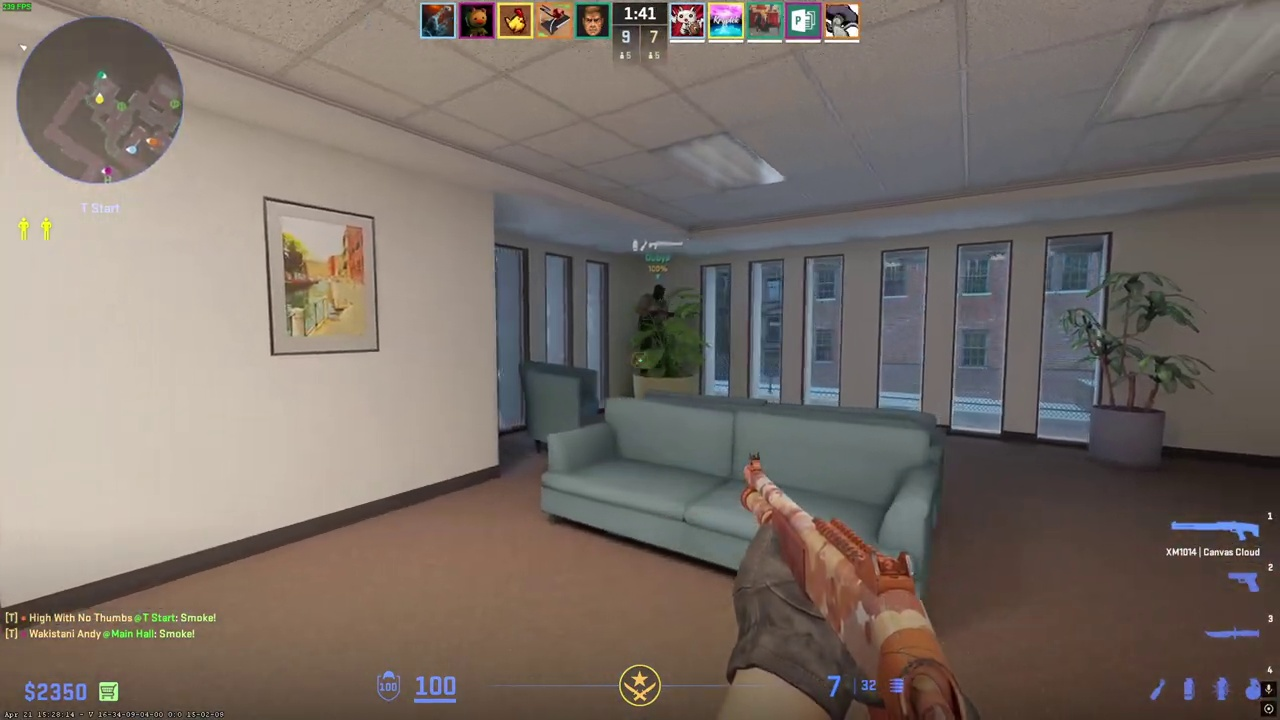Terrorist: (633, 284, 675, 377)
